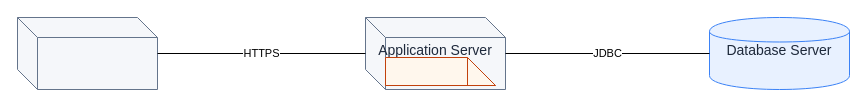
Image size: 867x107. Some labels were removed from this diagram. The centre of each missing label's shape, as x and y in pixels:
"Client Device" goes at point (87, 53).
"web.jar" goes at point (440, 71).
